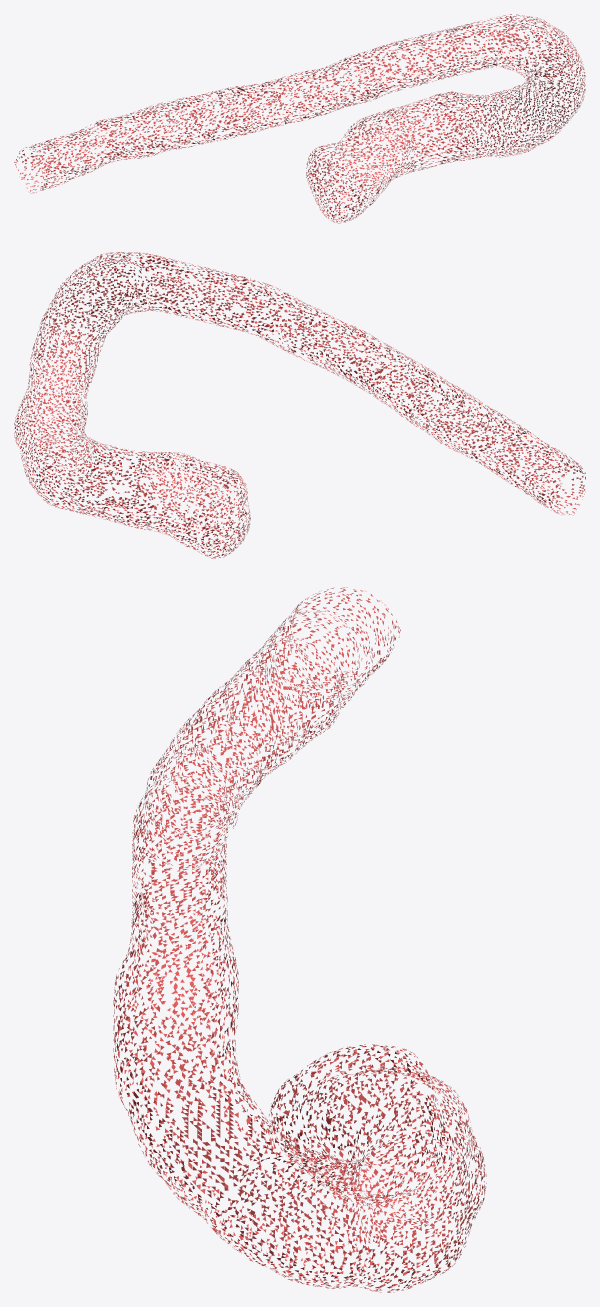
File: aorta.glb
3 views of the same model, one above another, from view 1: azimuth 30°, elevation 25°; view 2: azimuth 150°, elevation 25°; view 3: azimuth 270°, elevation 25° (orthographic). The views are drawn at different scales.
Bounding box in the file's own units: 224 × 86.88 × 70.18.
